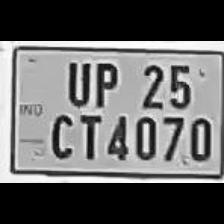0: (185, 113, 213, 162), (131, 110, 158, 160)
2: (134, 60, 164, 108)
4: (104, 110, 130, 162)
5: (164, 60, 192, 108)
7: (158, 110, 182, 162)
C: (46, 108, 74, 158)
P: (90, 56, 120, 107)
T: (75, 110, 103, 160)
U: (61, 56, 91, 106)
